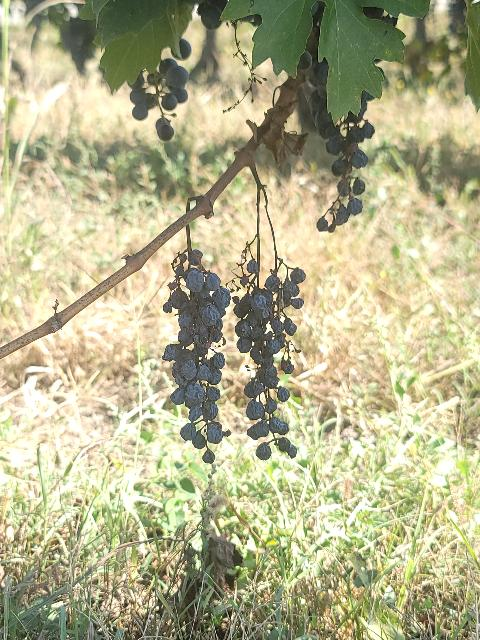grapes: (162, 245, 230, 464), (234, 259, 305, 458), (299, 51, 375, 232)
